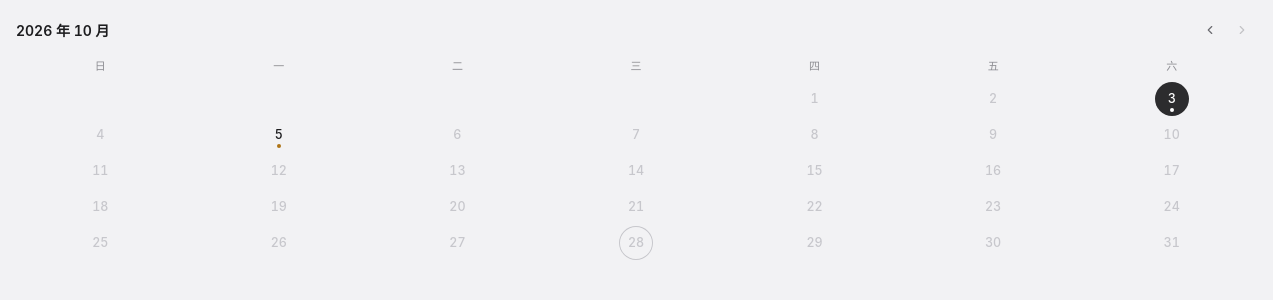
Test: BriefCalendar › 上下月切換，範圍是最舊一份到今天所在的月份
This screenshot has width=1273, height=300.
Expected: the button named "下個月" is disabled, [1228, 16, 1256, 44]
Click the button named "上個月".
click(1210, 30)  # box [1196, 16, 1224, 44]
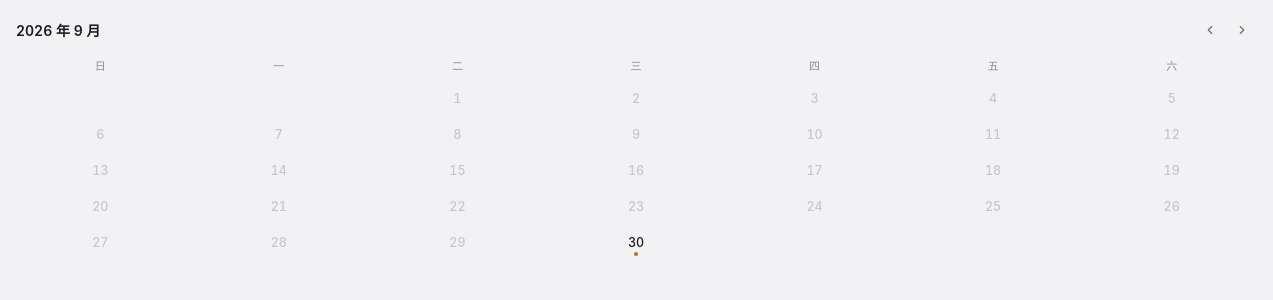
Expected: the heading "2026 年 9 月" is shown, [16, 22, 101, 39]
Expected: the button named "9 月 30 日" is enabled, [619, 226, 653, 260]
Click the button named "上個月".
click(1210, 30)  # box [1196, 16, 1224, 44]
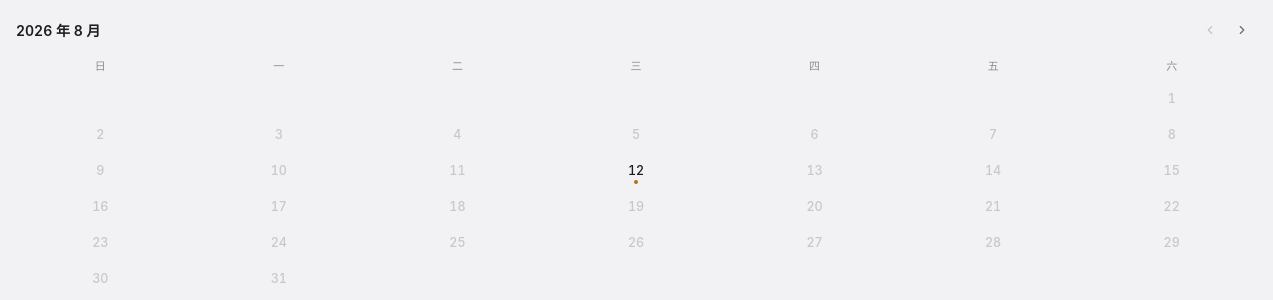
Expected: the button named "下個月" is enabled, [1228, 16, 1256, 44]
Expected: the heading "2026 年 8 月" is shown, [16, 22, 101, 39]
